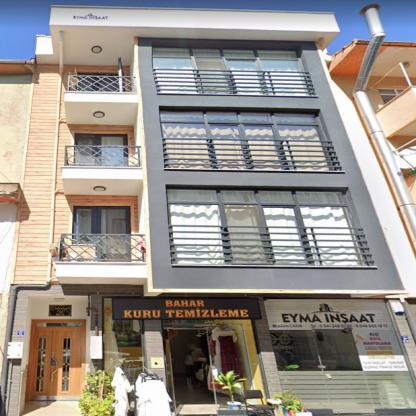door: (29, 321, 83, 400)
window: (166, 189, 367, 265), (160, 110, 336, 171), (153, 49, 310, 95), (74, 209, 126, 257), (76, 135, 126, 165), (77, 74, 120, 92), (378, 89, 404, 104)
